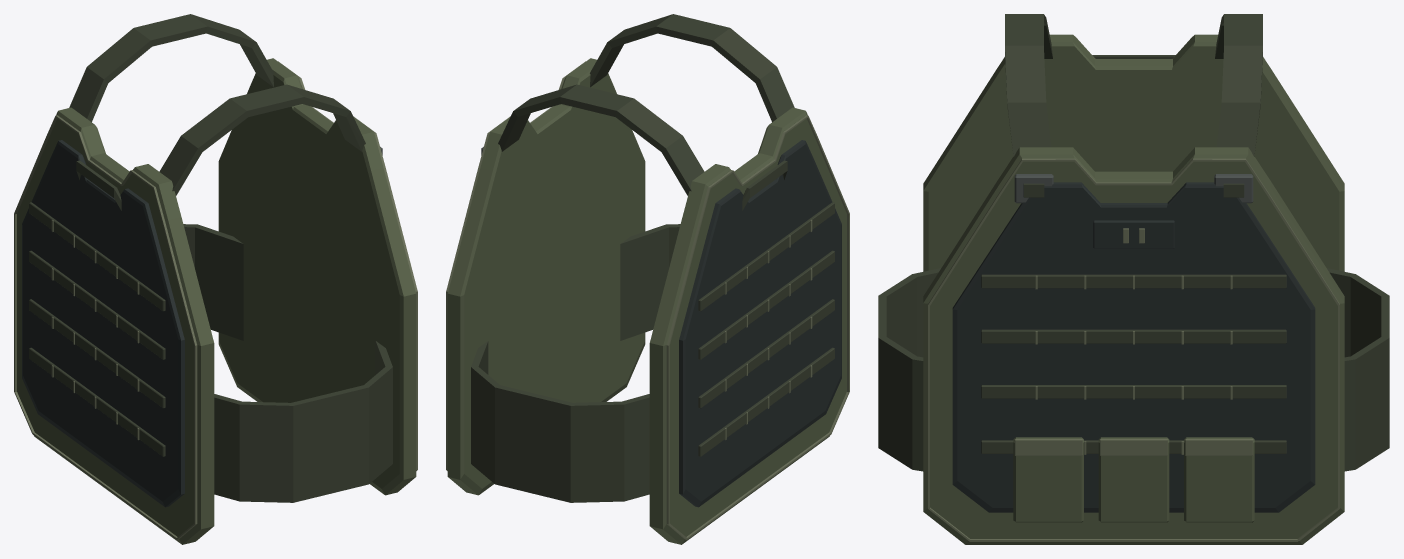
File: SM_VestMedium.fbx
3 renders of one model, left to right at view 1: azimuth 30°, elevation 25°; view 2: azimuth 150°, elevation 25°; view 3: azimuth 270°, elevation 25°, orthographic. The views are drawn at different scales.
Visible parts, largest first — view 1: SM_VestMedium.001; view 2: SM_VestMedium.001; view 3: SM_VestMedium.001.
Part boxes in pixels (x1=…): SM_VestMedium.001: x1=14, y1=14, x2=417, y2=544; SM_VestMedium.001: x1=446, y1=14, x2=849, y2=544; SM_VestMedium.001: x1=878, y1=14, x2=1389, y2=544.
Size of the model in its own units: 26.86 by 41.98 by 41.39.
